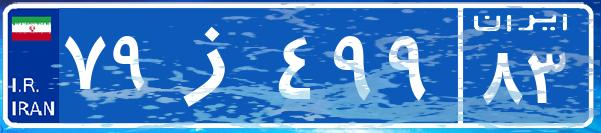3: (525, 38, 570, 115)
4: (273, 28, 330, 110)
7: (57, 26, 110, 107)
8: (475, 38, 525, 113)
9: (385, 28, 445, 110), (330, 28, 385, 110), (110, 28, 158, 105)
ز: (158, 15, 273, 115)
